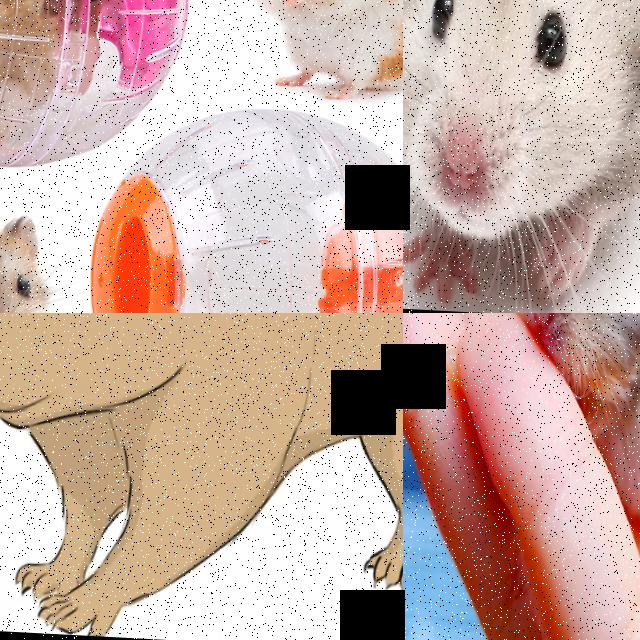hamster: (0, 313, 403, 640), (403, 0, 640, 313), (494, 313, 640, 634), (234, 0, 403, 107)
